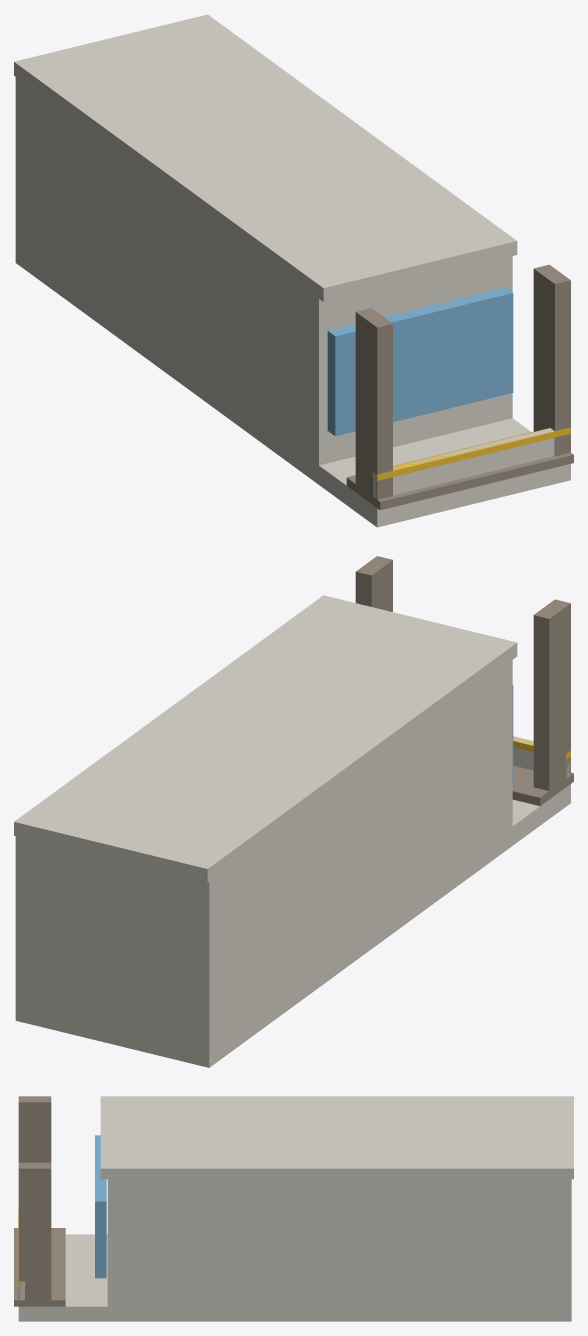
The model's file is pitClubSpan.glb.
The picture shows the model from 3 angles, top to bottom: view 1: azimuth 30°, elevation 25°; view 2: azimuth 150°, elevation 25°; view 3: azimuth 270°, elevation 25°; orthographic projection. The views are drawn at different scales.
Parts seen in each view (by area): view 1: pitClubSpan_white, pitClubSpan_glass, pitClubSpan_concreteDark, pitClubSpan_yellow; view 2: pitClubSpan_white, pitClubSpan_concreteDark; view 3: pitClubSpan_white, pitClubSpan_concreteDark, pitClubSpan_glass.
Part boxes in pixels (<box>): pitClubSpan_white: <box>14,14,570,527</box>; pitClubSpan_glass: <box>327,287,513,436</box>; pitClubSpan_concreteDark: <box>346,264,573,510</box>; pitClubSpan_yellow: <box>372,427,570,480</box>; pitClubSpan_white: <box>14,595,570,1067</box>; pitClubSpan_concreteDark: <box>355,556,573,805</box>; pitClubSpan_white: <box>18,1096,573,1321</box>; pitClubSpan_concreteDark: <box>14,1096,65,1306</box>; pitClubSpan_glass: <box>95,1135,106,1278</box>.
Bounding box in the file's own units: 7.3 × 7.2 × 23.9.
